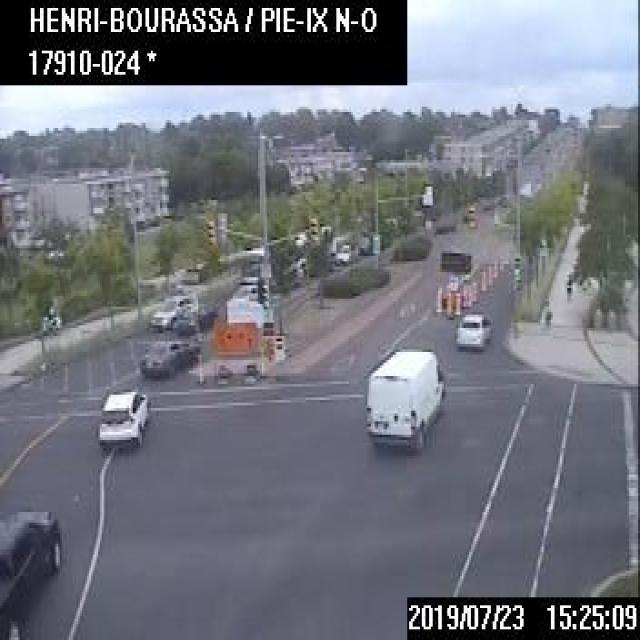construction: (196, 293, 276, 384), (435, 248, 469, 315), (444, 288, 452, 316), (434, 284, 441, 312), (453, 290, 460, 314), (478, 268, 485, 290), (462, 280, 468, 305), (485, 263, 492, 283), (470, 279, 476, 300), (492, 257, 498, 274)
vehicle: (362, 347, 445, 448), (0, 510, 62, 638), (96, 387, 148, 448), (138, 336, 187, 376), (452, 309, 492, 347), (147, 292, 189, 328), (172, 304, 216, 332), (325, 232, 351, 264), (463, 204, 475, 218)
